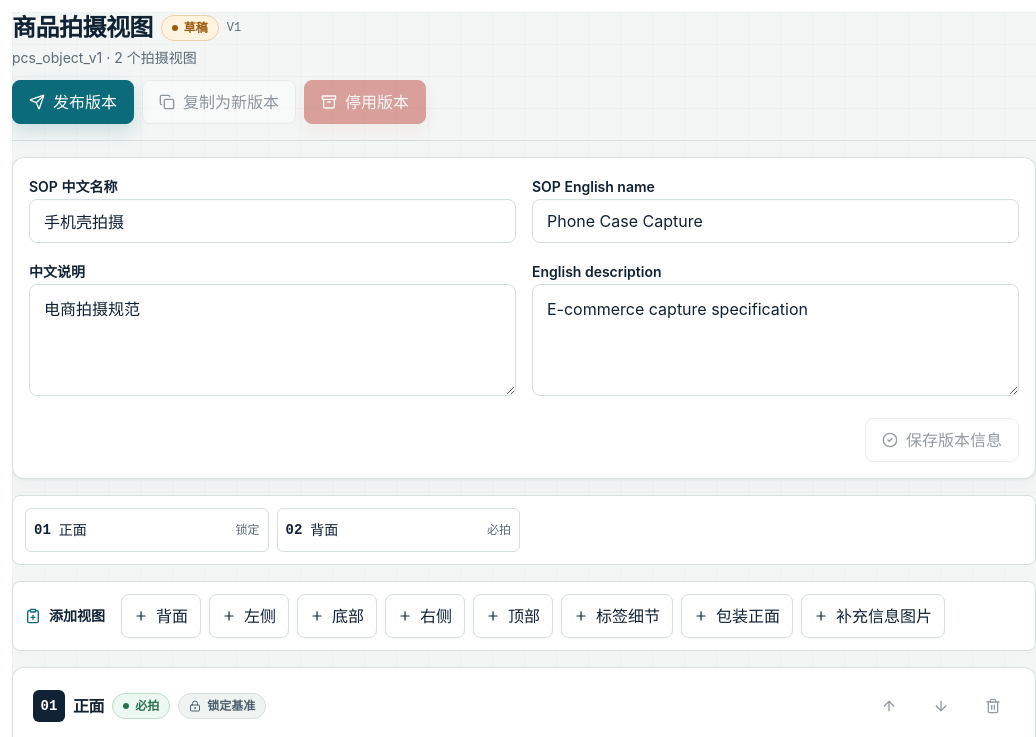
it: SOPVersionEditor › protects dirty navigation and clears the guard after a confirmed save
Step 1. Replace the text in the field labelled "SOP 中文名称" with "新标题" → (272,221), box [29,199,516,243]
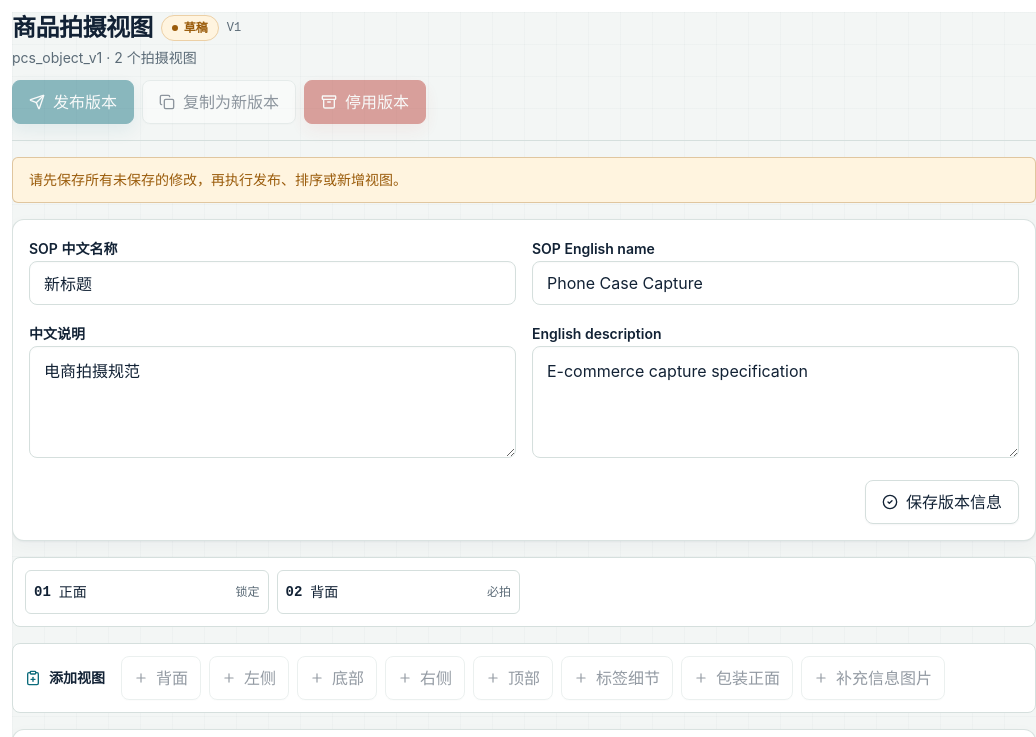
Step 2. Click the button "保存版本信息" → (942,502), box [865,480,1019,524]
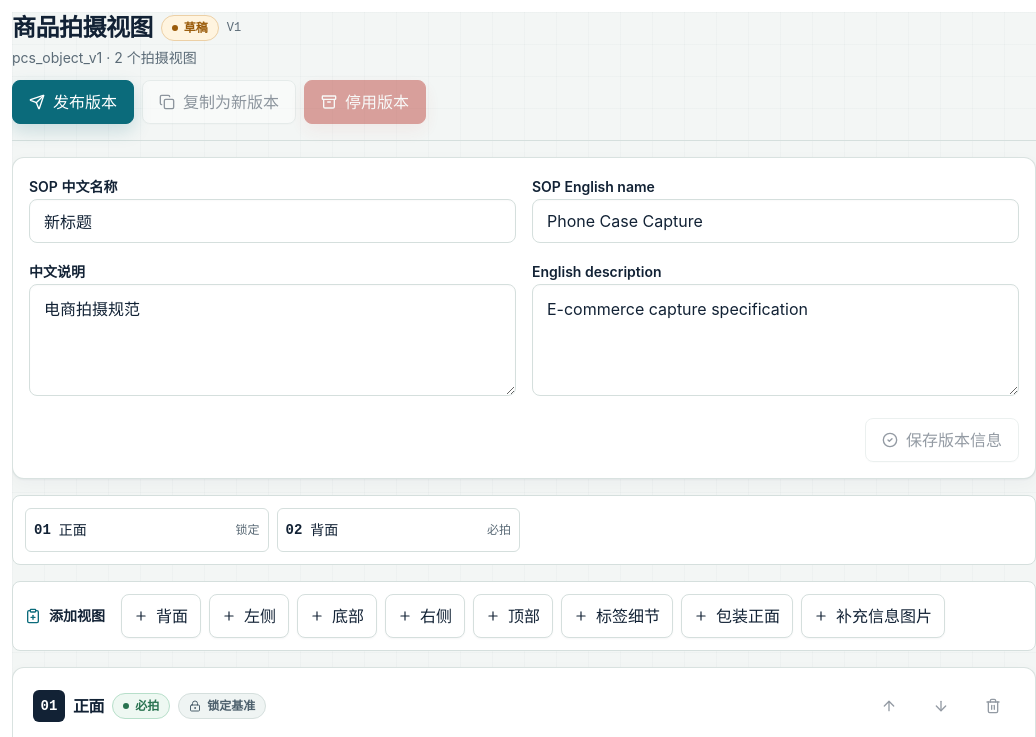
Now the button "发布版本" is enabled, box [12,80,134,124]
